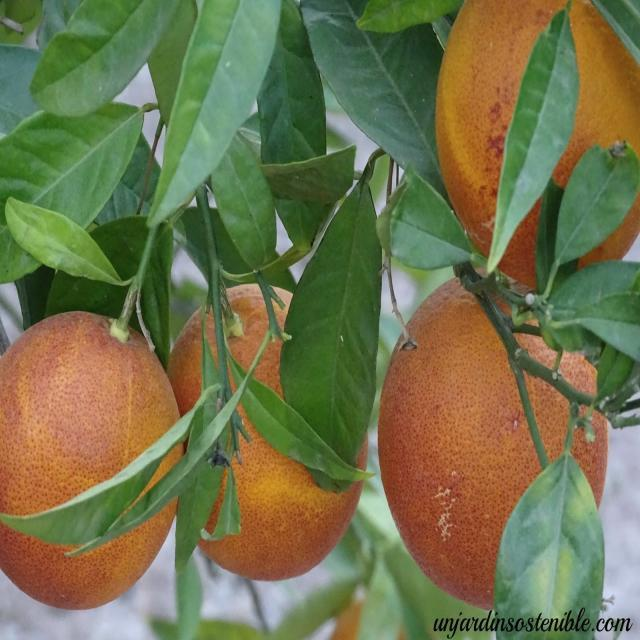Jeruk Sudah Matang: (369, 268, 640, 615), (154, 247, 385, 615), (0, 258, 188, 640), (422, 0, 640, 289)
